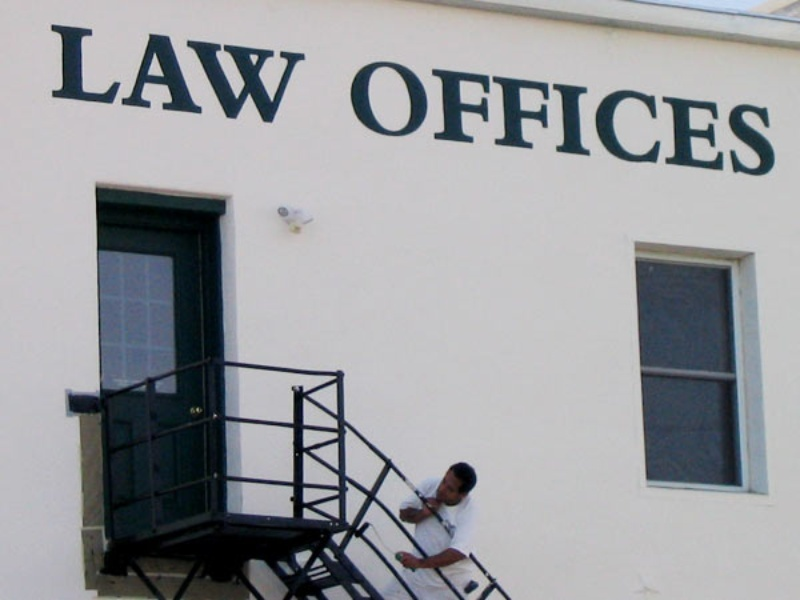text: (353, 55, 368, 179), (369, 55, 384, 179), (385, 55, 400, 179), (401, 55, 416, 179), (417, 55, 432, 179), (433, 55, 448, 179), (449, 55, 464, 179), (465, 55, 480, 179), (481, 55, 496, 179), (497, 55, 512, 179), (513, 55, 528, 179), (529, 55, 544, 179), (545, 55, 560, 179), (561, 55, 576, 179), (577, 55, 592, 179), (593, 55, 608, 179), (609, 55, 624, 179), (625, 55, 640, 179), (641, 55, 656, 179), (657, 55, 672, 179), (673, 55, 688, 179), (689, 55, 704, 179), (705, 55, 720, 179), (721, 55, 736, 179), (737, 55, 752, 179), (753, 55, 768, 179), (65, 22, 80, 125), (81, 22, 96, 125), (97, 22, 112, 125), (113, 22, 128, 125), (129, 22, 144, 125), (145, 22, 160, 125), (161, 22, 176, 125), (177, 22, 192, 125), (193, 22, 208, 125), (209, 22, 224, 125), (225, 22, 240, 125), (241, 22, 256, 125), (257, 22, 272, 125), (273, 22, 288, 125), (289, 22, 304, 125), (50, 22, 64, 125), (769, 55, 777, 179), (305, 22, 310, 125), (349, 55, 352, 179)
